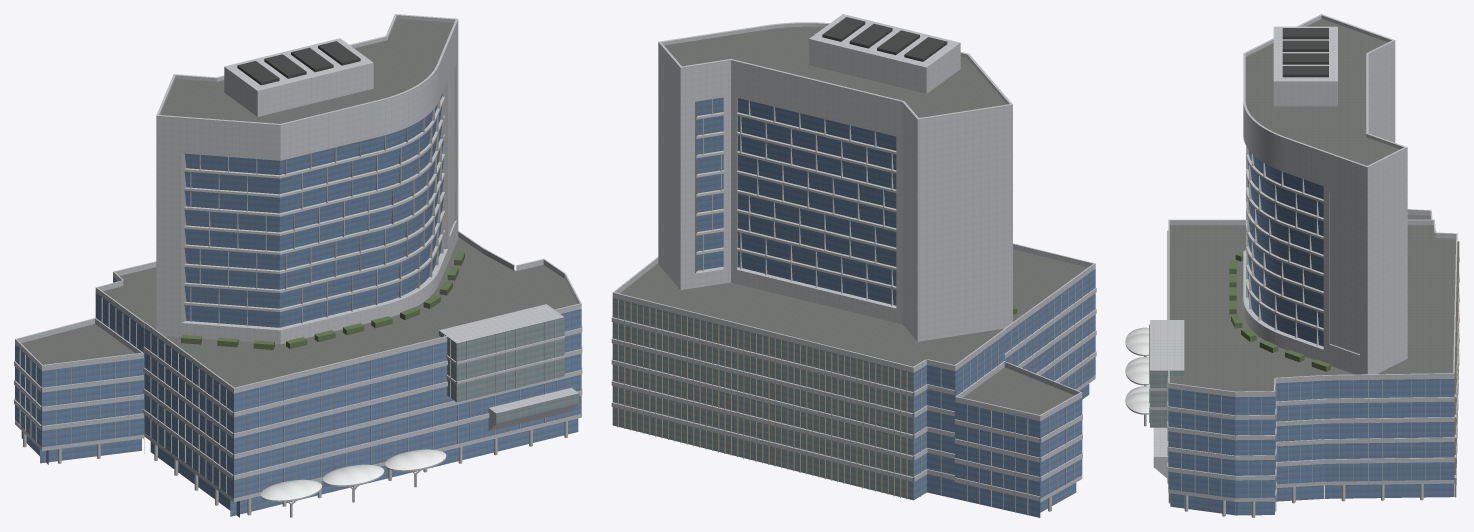
3 renders of one model, left to right at view 1: azimuth 30°, elevation 25°; view 2: azimuth 150°, elevation 25°; view 3: azimuth 270°, elevation 25°, orthographic. The views are drawn at different scales.
Visible parts, largest first — view 1: cancer-hospital; view 2: cancer-hospital; view 3: cancer-hospital.
Part boxes in pixels (left/top/right/bottom): cancer-hospital: left=14, top=14, right=582, bottom=517; cancer-hospital: left=611, top=14, right=1096, bottom=517; cancer-hospital: left=1125, top=14, right=1459, bottom=517.
Size of the model in its own units: 111 by 85.8 by 72.44.
9 materials, 5 textured.
